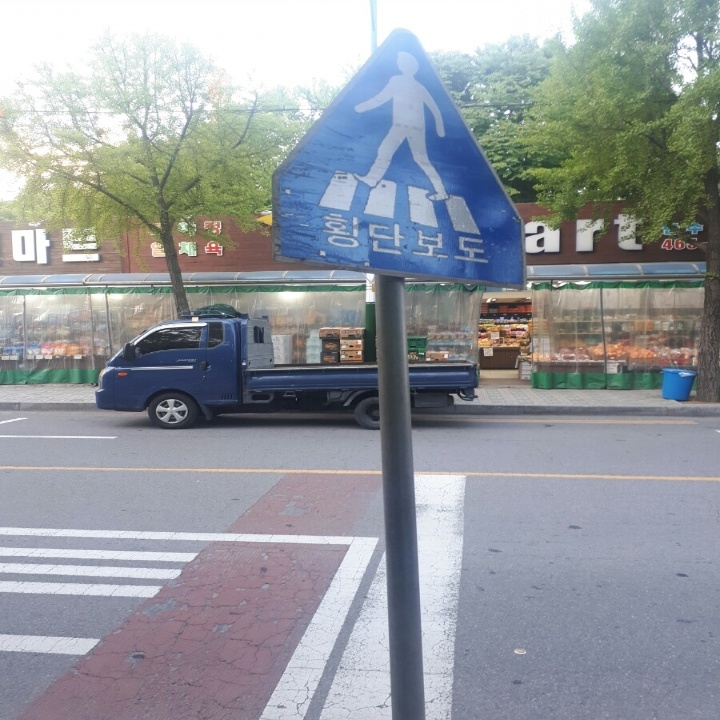cross: (329, 45, 489, 205)
